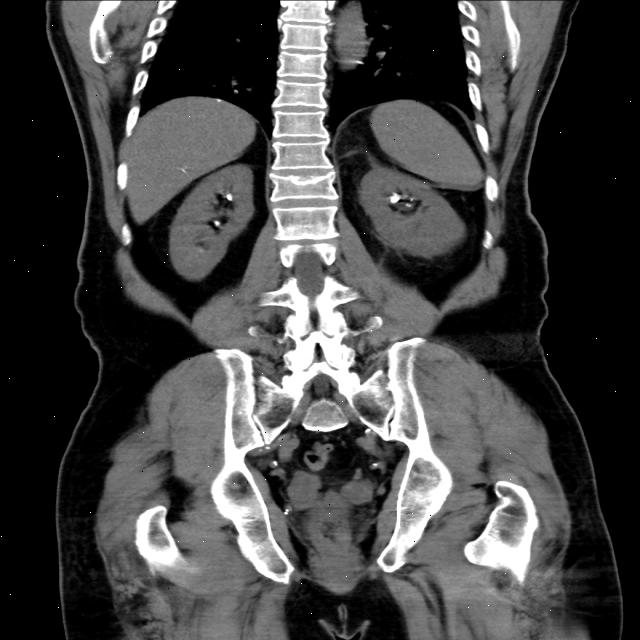kidneystone: (388, 192, 413, 206)
